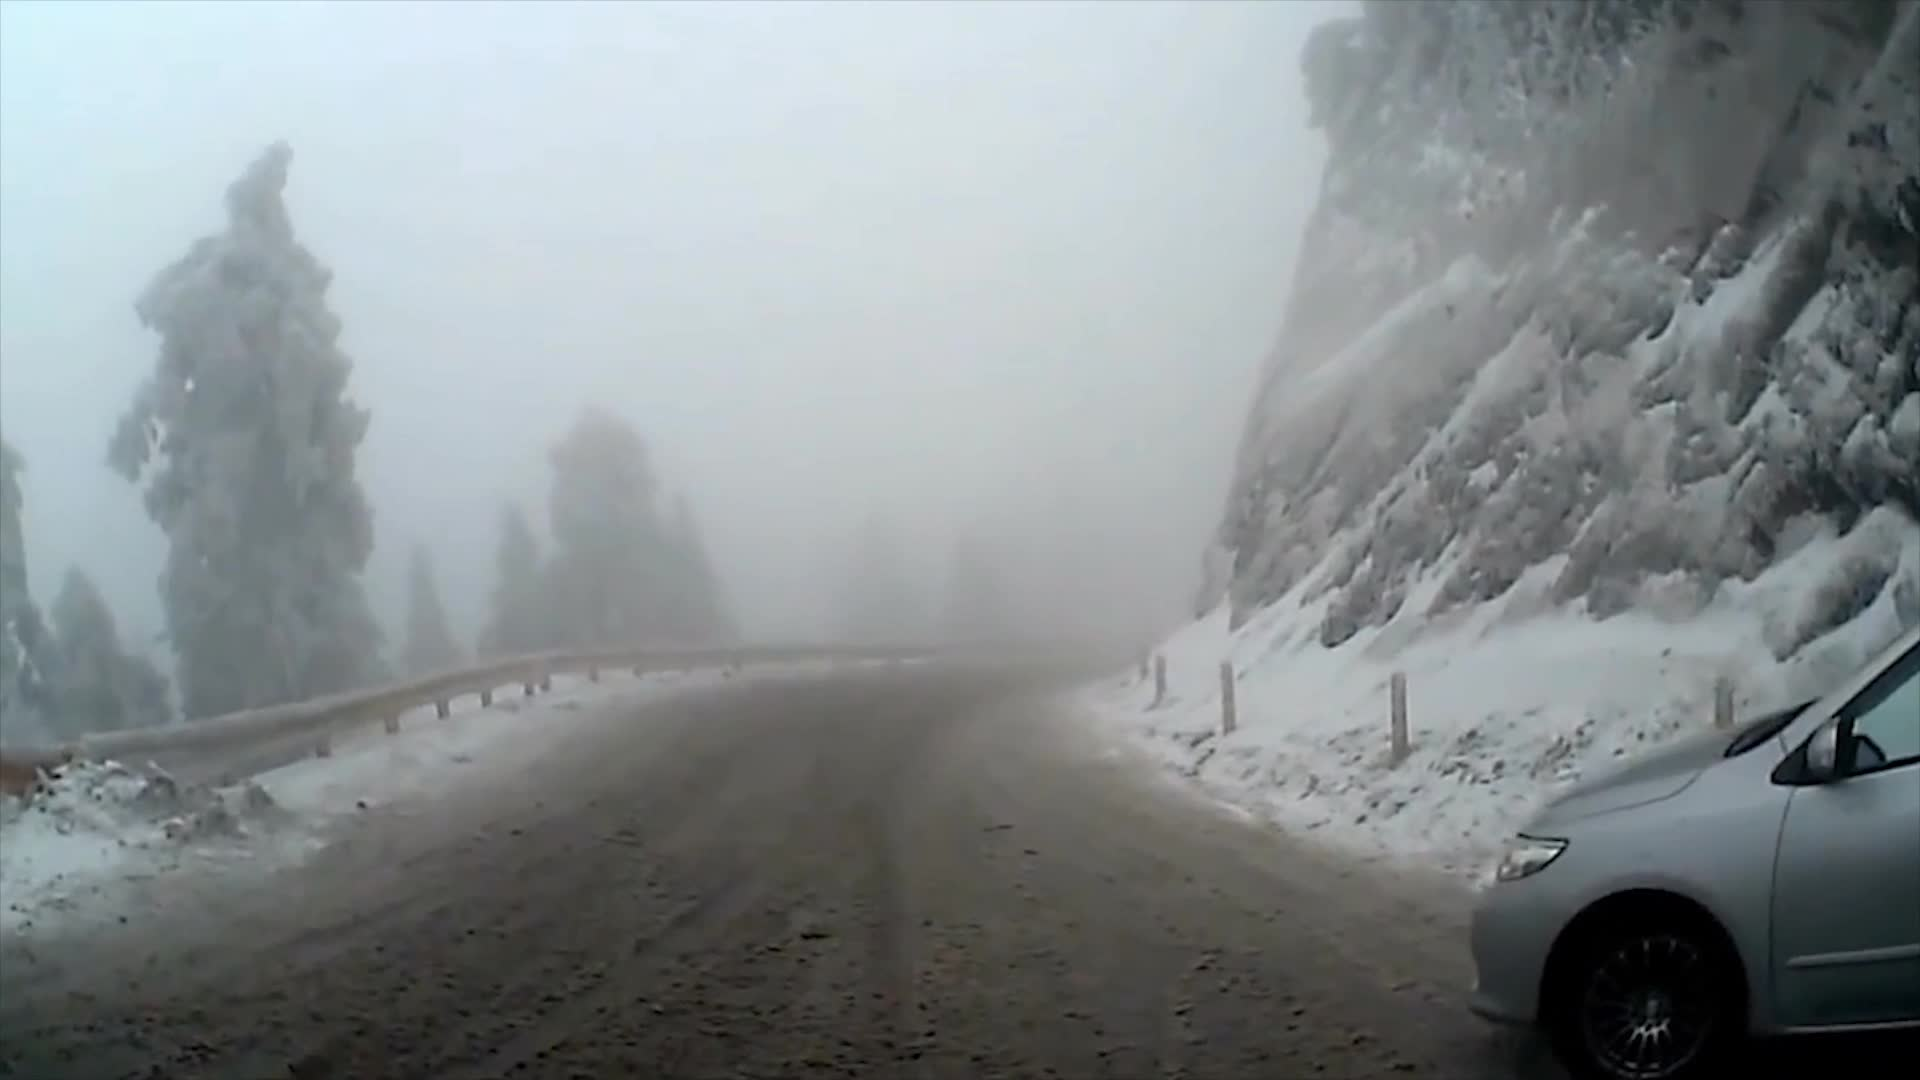vehicle: (1465, 616, 1920, 1080)
